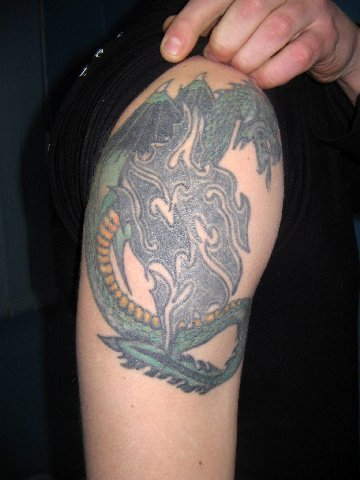tatu6_drakon: (80, 66, 292, 398)
